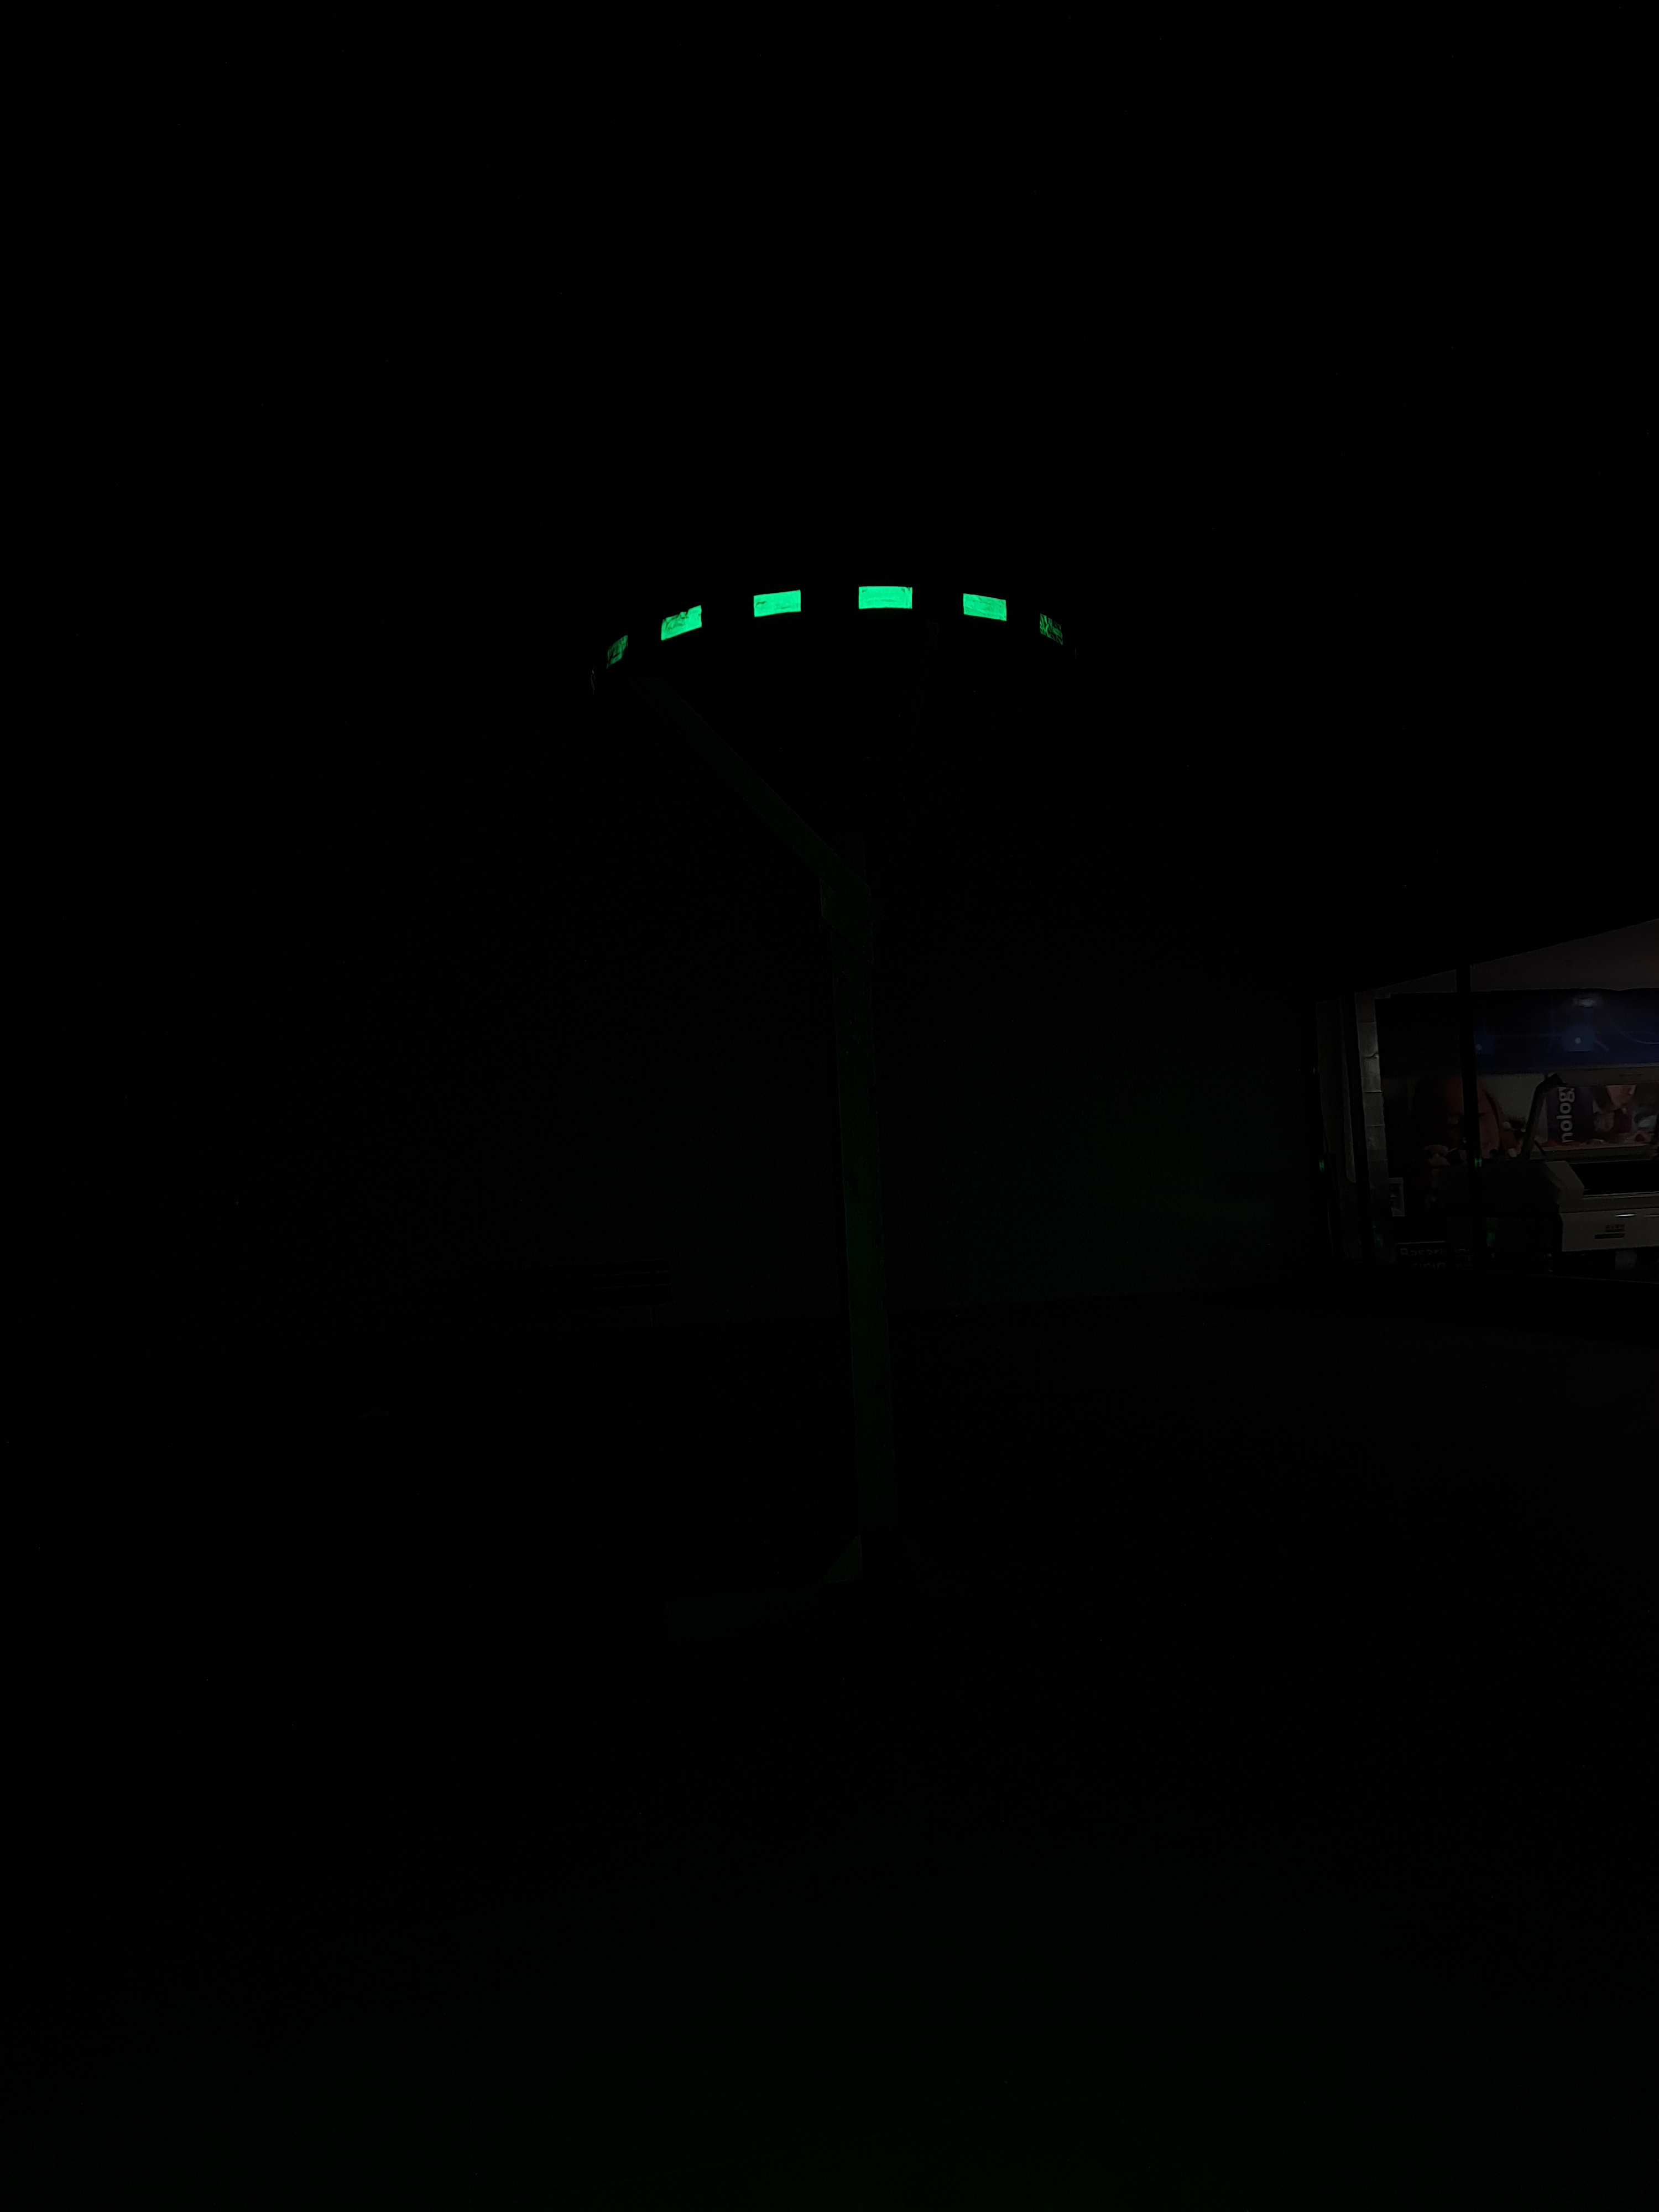hoop: (572, 559, 1089, 672)
